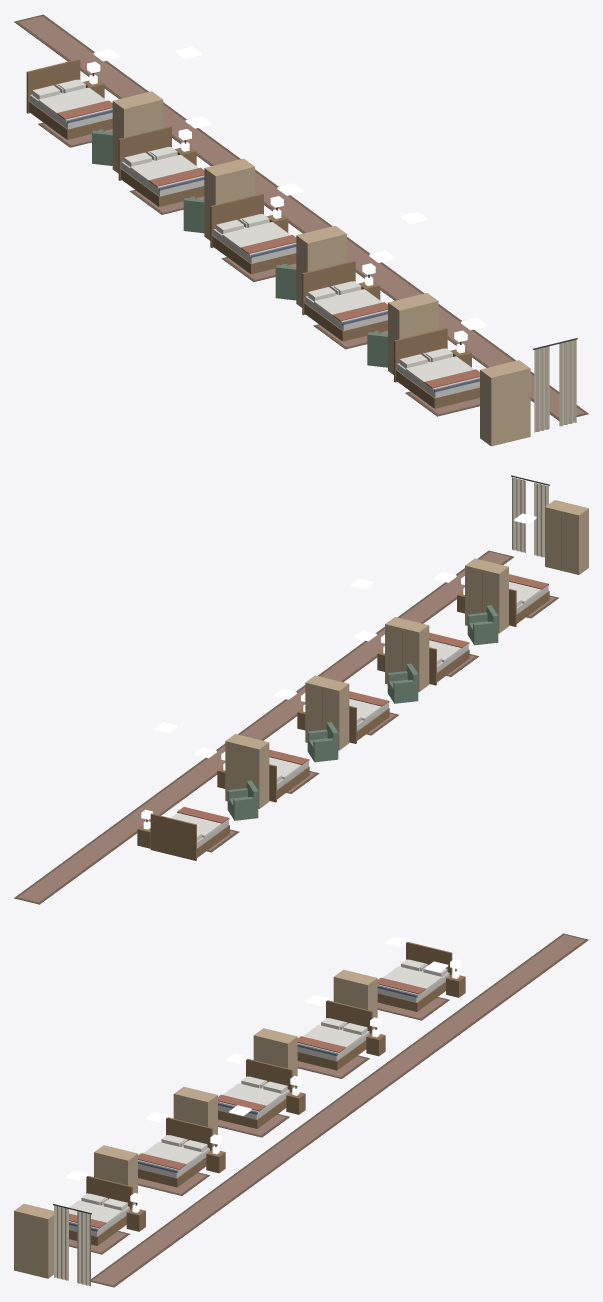
The model's file is fine-s3.glb.
3 views of the same model, one above another, from view 1: azimuth 30°, elevation 25°; view 2: azimuth 150°, elevation 25°; view 3: azimuth 330°, elevation 25° (orthographic). The views are drawn at different scales.
Parts seen in each view (by area): view 1: soft-s3, dresser.014, bed-frame.010, bed-frame.014, bed-frame.011, bed-frame.012, bed-frame.013, dresser.010, dresser.011, dresser.012, dresser.013, lounge-chair.009 (+3 smaller); view 2: soft-s3, dresser.014, dresser.011, dresser.010, dresser.012, dresser.013, bed-frame.010, lounge-chair.008, lounge-chair.010, lounge-chair.011, lounge-chair.009, bed-frame.012 (+3 smaller); view 3: soft-s3, dresser.014, bed-frame.011, bed-frame.013, bed-frame.010, bed-frame.012, bed-frame.014, dresser.010, dresser.011, dresser.012, dresser.013.
Part boxes in pixels (box(x1,y1,x2,y2)): soft-s3: box(14, 14, 588, 432); dresser.014: box(480, 360, 530, 446); bed-frame.010: box(26, 59, 112, 139); bed-frame.014: box(394, 328, 479, 408); bed-frame.011: box(118, 126, 204, 206); bed-frame.012: box(210, 193, 296, 274); bed-frame.013: box(302, 260, 387, 341); dresser.010: box(112, 91, 163, 173); dresser.011: box(204, 158, 254, 240); dresser.012: box(296, 225, 346, 307); dresser.013: box(388, 293, 438, 374); lounge-chair.009: box(183, 196, 204, 233); soft-s3: box(14, 475, 558, 904); dresser.014: box(545, 500, 588, 574); dresser.011: box(305, 675, 349, 750); dresser.010: box(225, 734, 269, 808); dresser.012: box(385, 617, 429, 691); dresser.013: box(465, 558, 508, 633); bed-frame.010: box(150, 813, 229, 860); lounge-chair.008: box(227, 780, 258, 820); lounge-chair.010: box(387, 663, 418, 703); lounge-chair.011: box(467, 605, 498, 645); lounge-chair.009: box(307, 722, 338, 762); bed-frame.012: box(349, 701, 389, 743); soft-s3: box(53, 933, 588, 1287); dresser.014: box(14, 1203, 53, 1278); bed-frame.011: box(297, 1000, 372, 1070); bed-frame.013: box(138, 1117, 212, 1187); bed-frame.010: box(377, 942, 452, 1011); bed-frame.012: box(218, 1059, 292, 1128); bed-frame.014: box(69, 1176, 132, 1245); dresser.010: box(333, 969, 377, 1029); dresser.011: box(253, 1028, 297, 1088); dresser.012: box(173, 1086, 217, 1146); dresser.013: box(94, 1145, 137, 1205).
Bounding box in the file's own units: 3.55 × 2.51 × 29.31.
